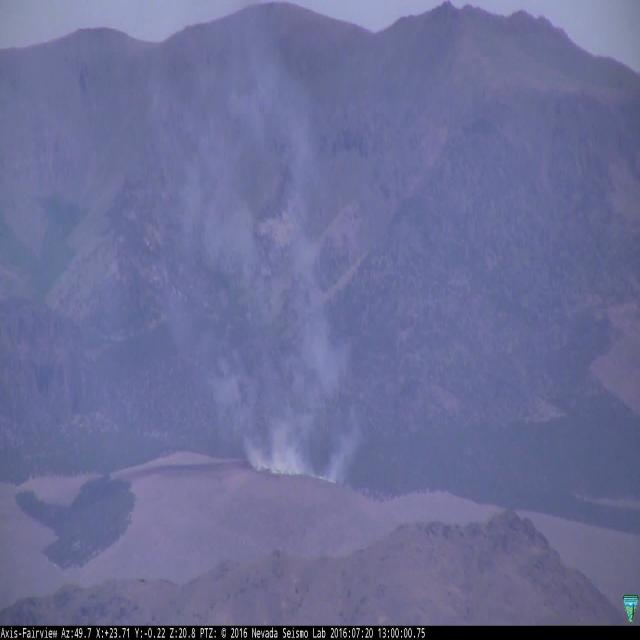smoke: (163, 236, 352, 487)
